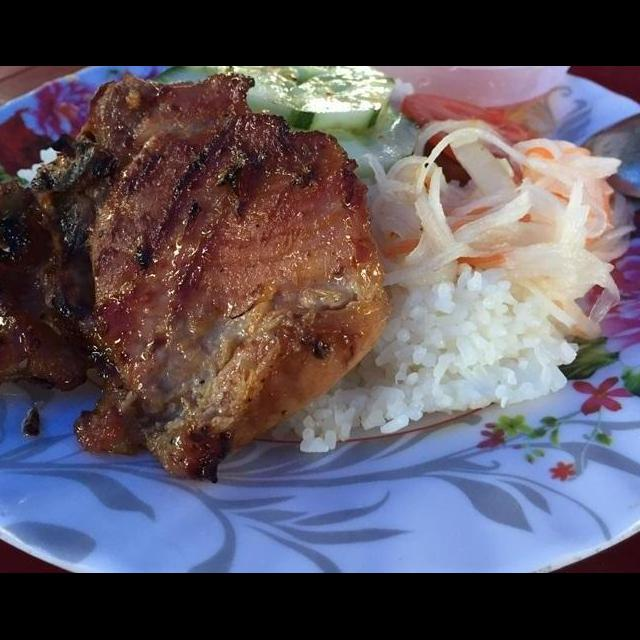com: (282, 258, 584, 458)
com suon: (0, 86, 640, 539)
dua chua: (357, 115, 640, 345)
suon: (0, 70, 396, 488)
